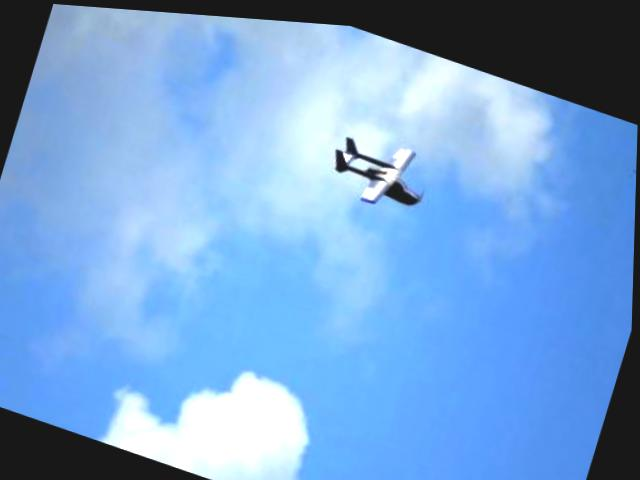uav: (321, 110, 441, 222)
